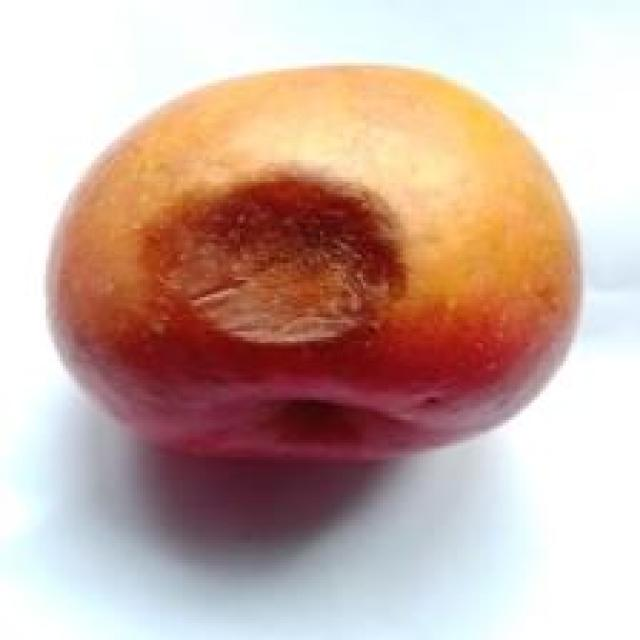rotten apple: (18, 47, 606, 515)
